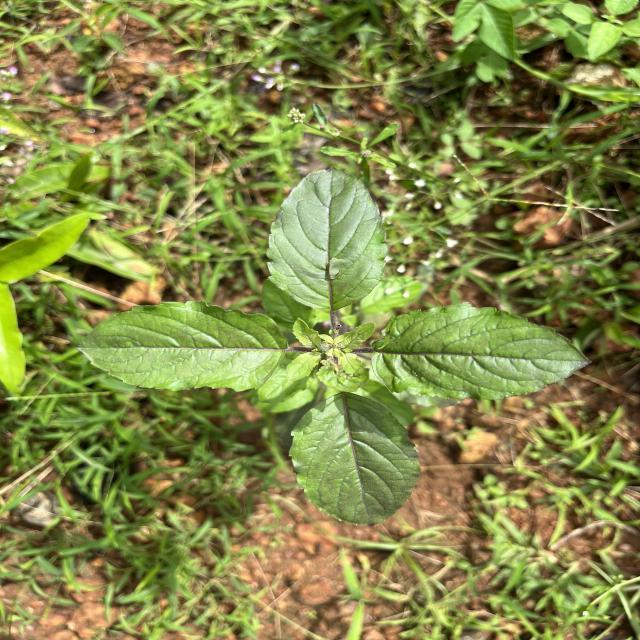Ocimum tenuiflorum: (370, 300, 594, 403), (74, 298, 290, 394), (287, 391, 424, 528), (265, 166, 390, 312)
